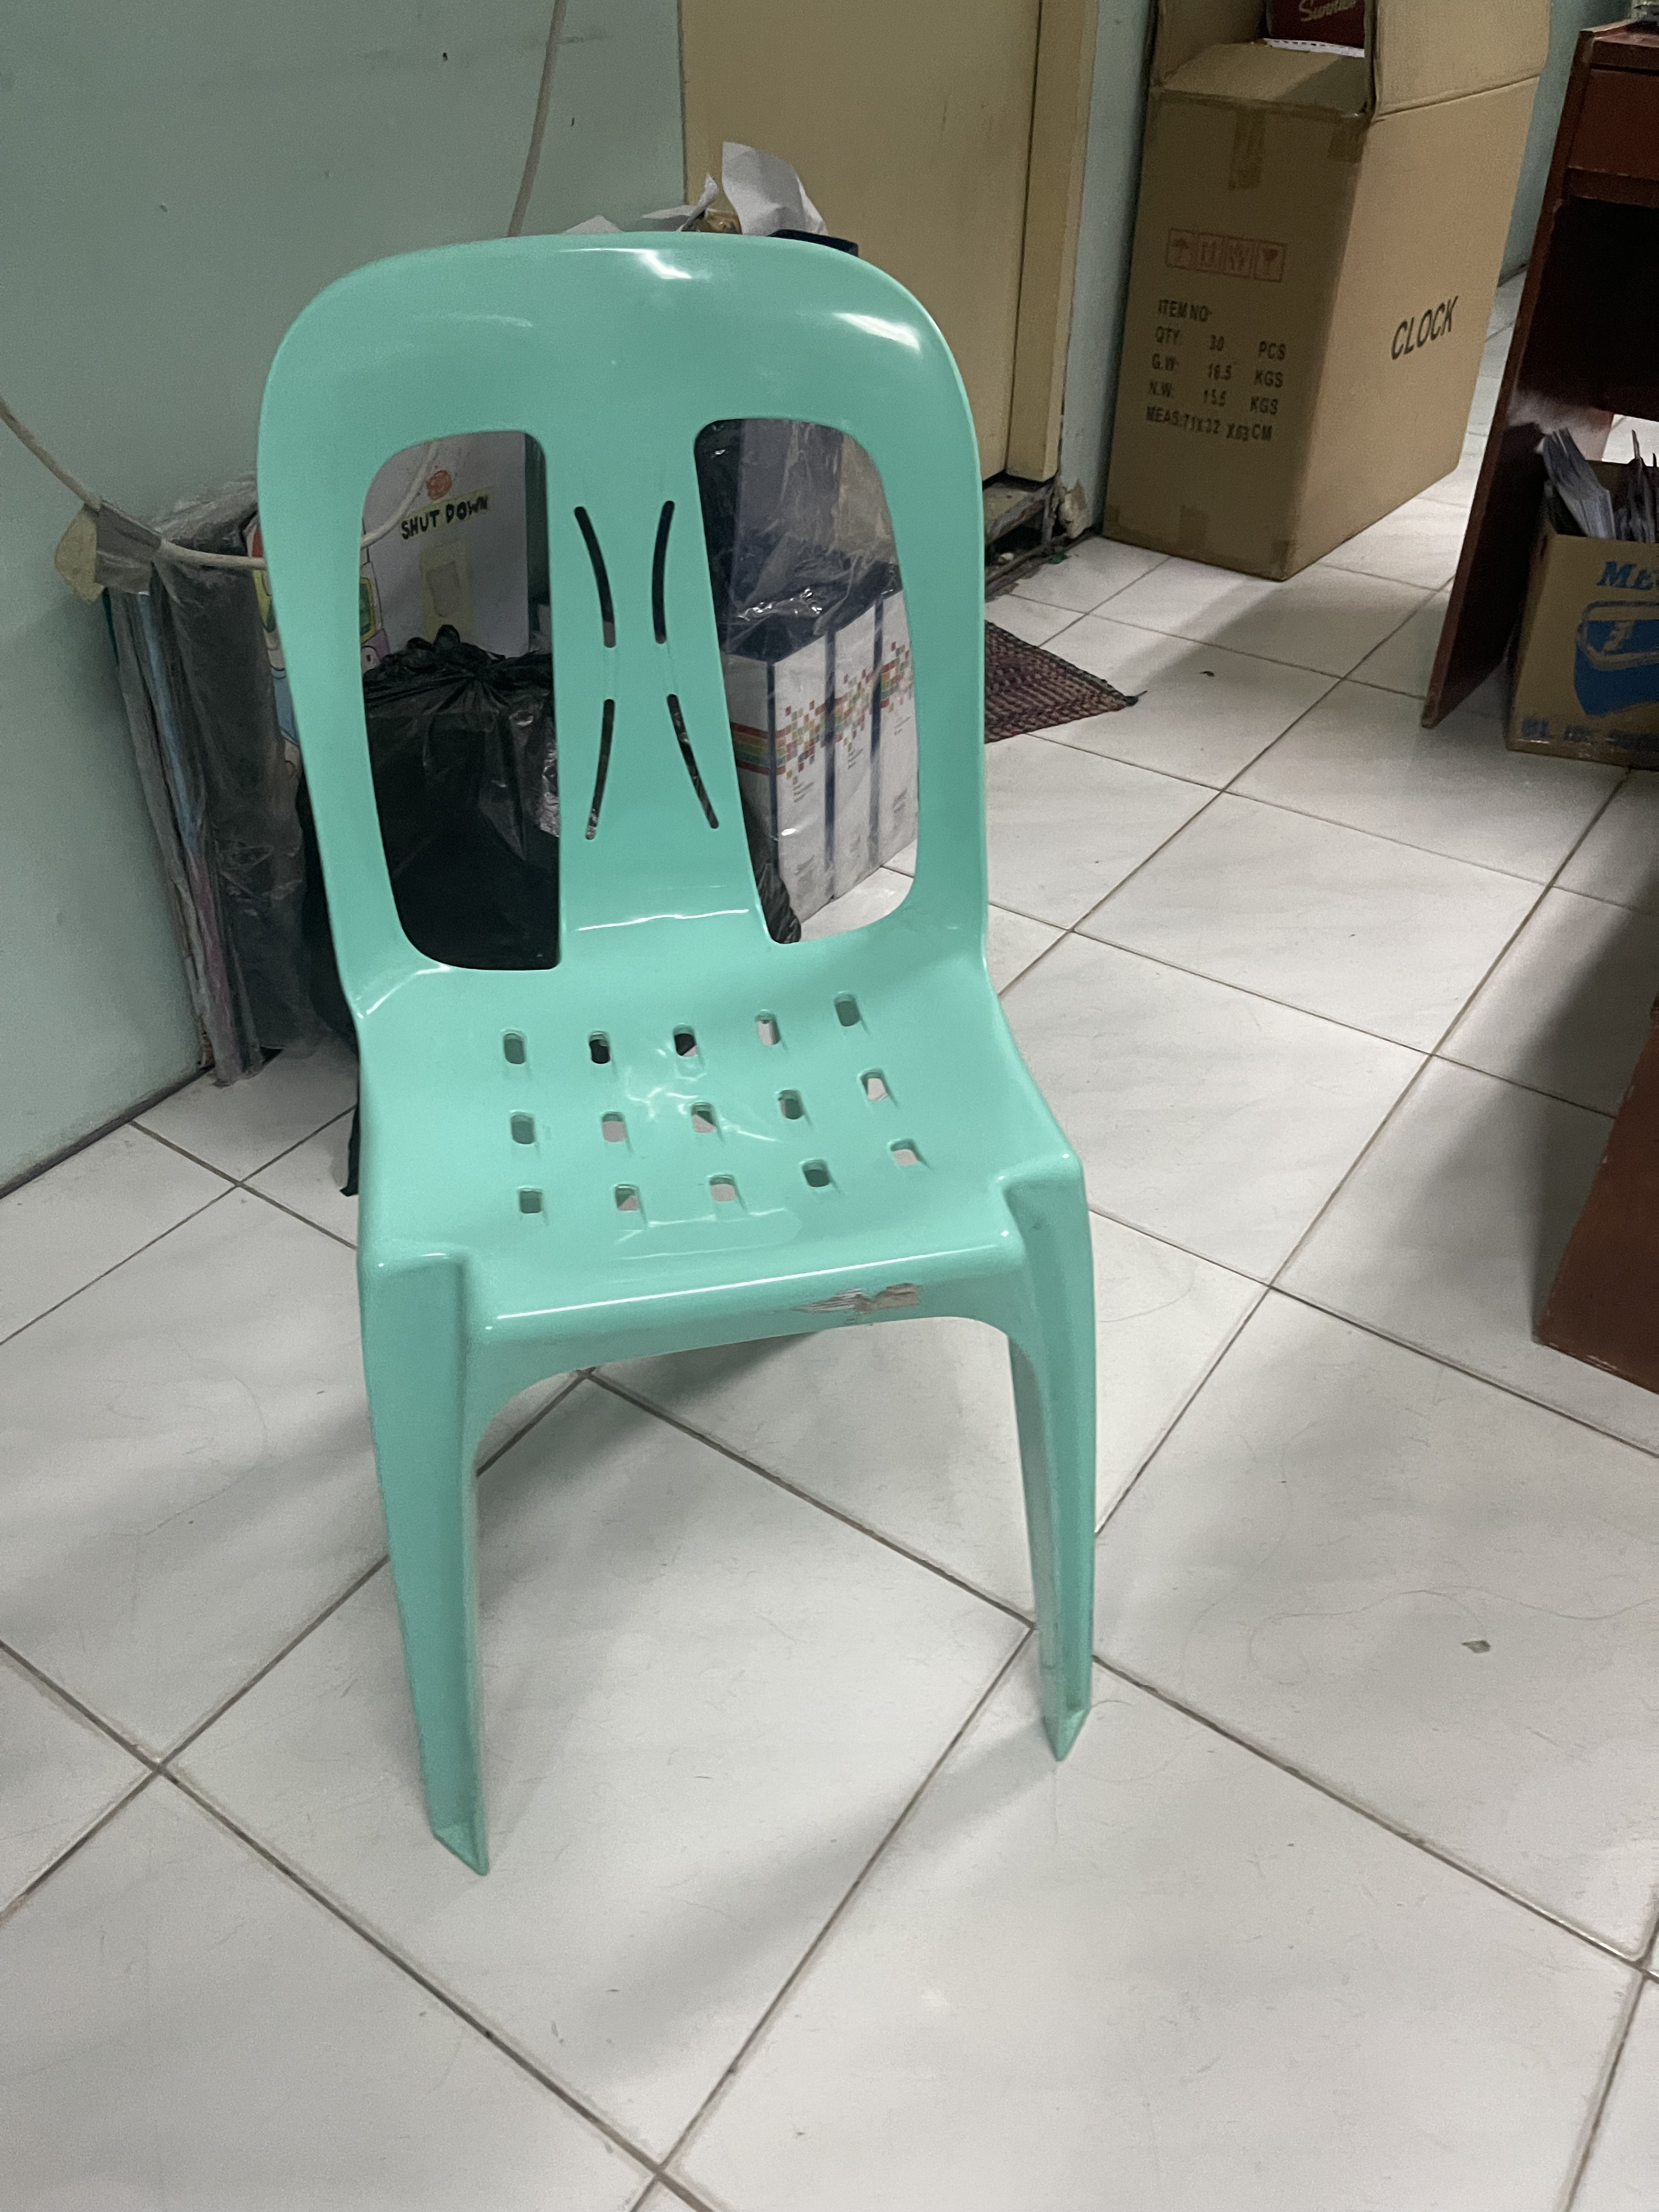chair2: (242, 223, 1103, 1883)
